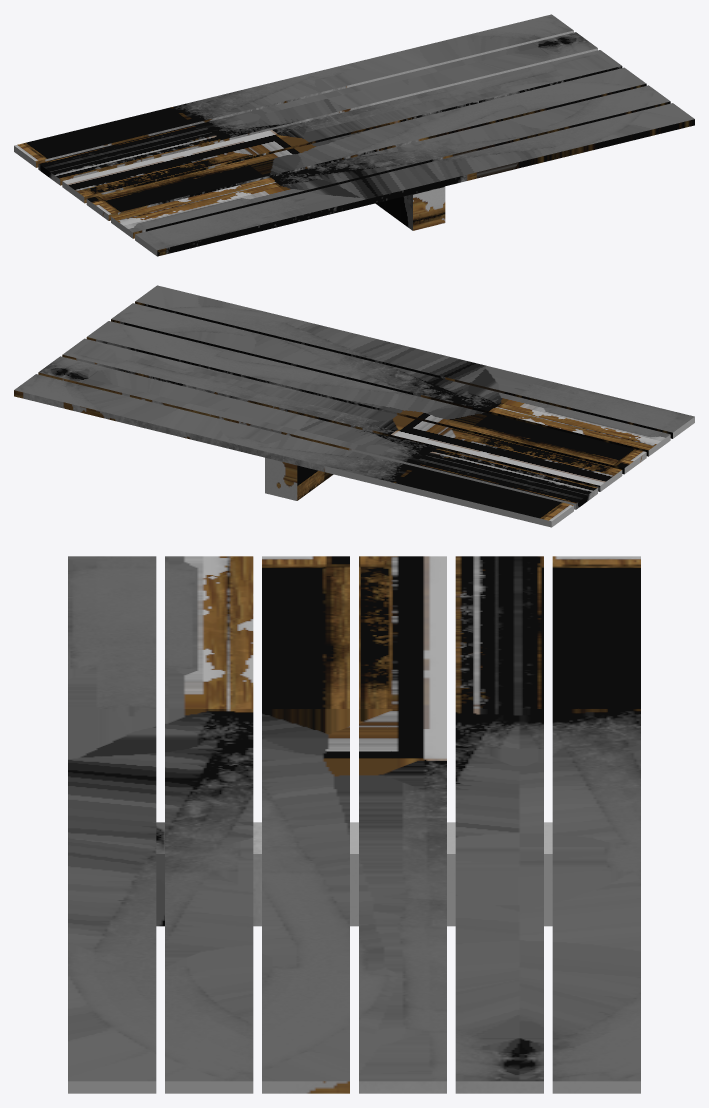
The model's file is wood platform piece.fbx.
3 views of the same model, one above another, from view 1: azimuth 30°, elevation 25°; view 2: azimuth 150°, elevation 25°; view 3: azimuth 270°, elevation 25° (orthographic). The views are drawn at different scales.
Visible parts, largest first — view 1: Cube.001; view 2: Cube.001; view 3: Cube.001.
Part boxes in pixels (<box>): Cube.001: <box>14,14,694,256</box>; Cube.001: <box>14,285,694,527</box>; Cube.001: <box>68,556,640,1093</box>.
Bounding box in the file's own units: 838 × 65.43 × 386.
